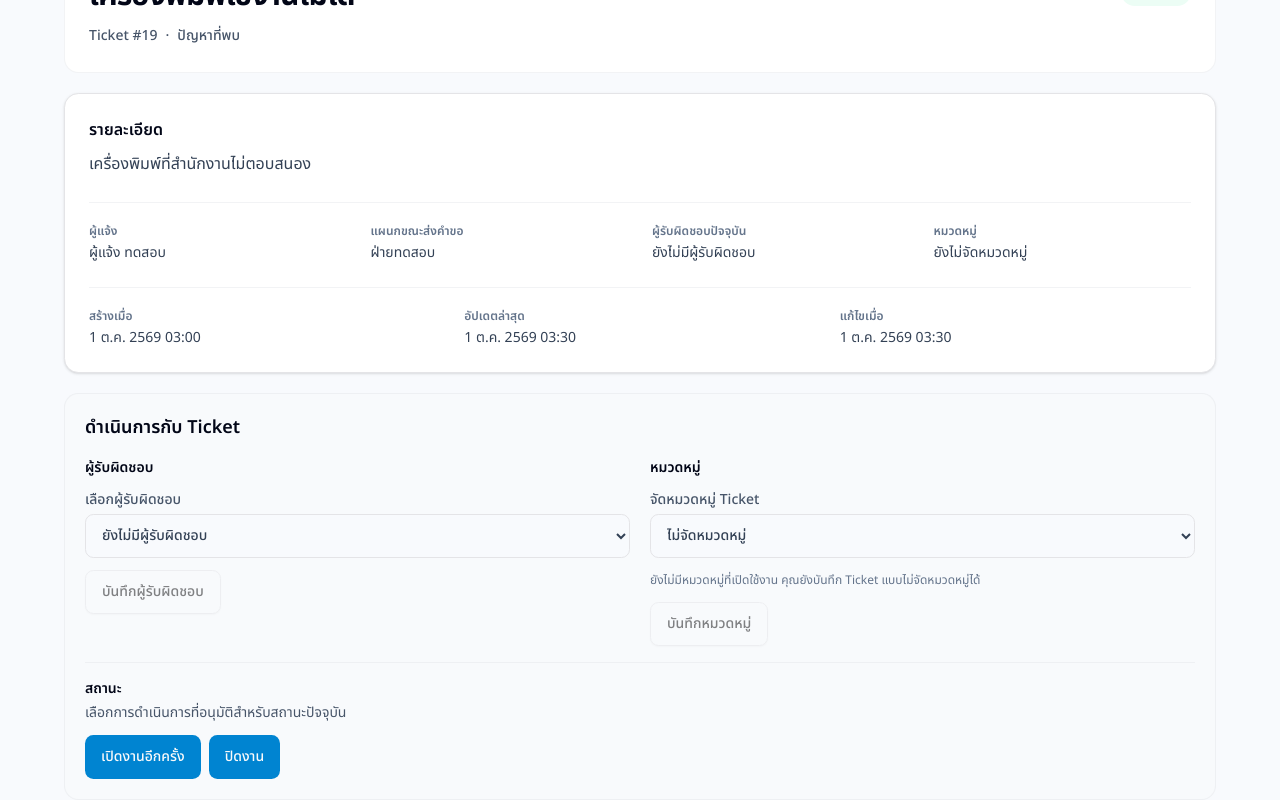
Scenario: ITTicketOperatorDetail terminal transition confirmation › requires close confirmation, cancels on Escape, and refreshes after success
The image size is (1280, 800).
(page scrolled)
Expected: the text "Ticket #19·ปัญหาที่พบ" is shown, [89, 24, 240, 46]
Click the button "ปิดงาน" at (244,756), box [209, 734, 280, 778]
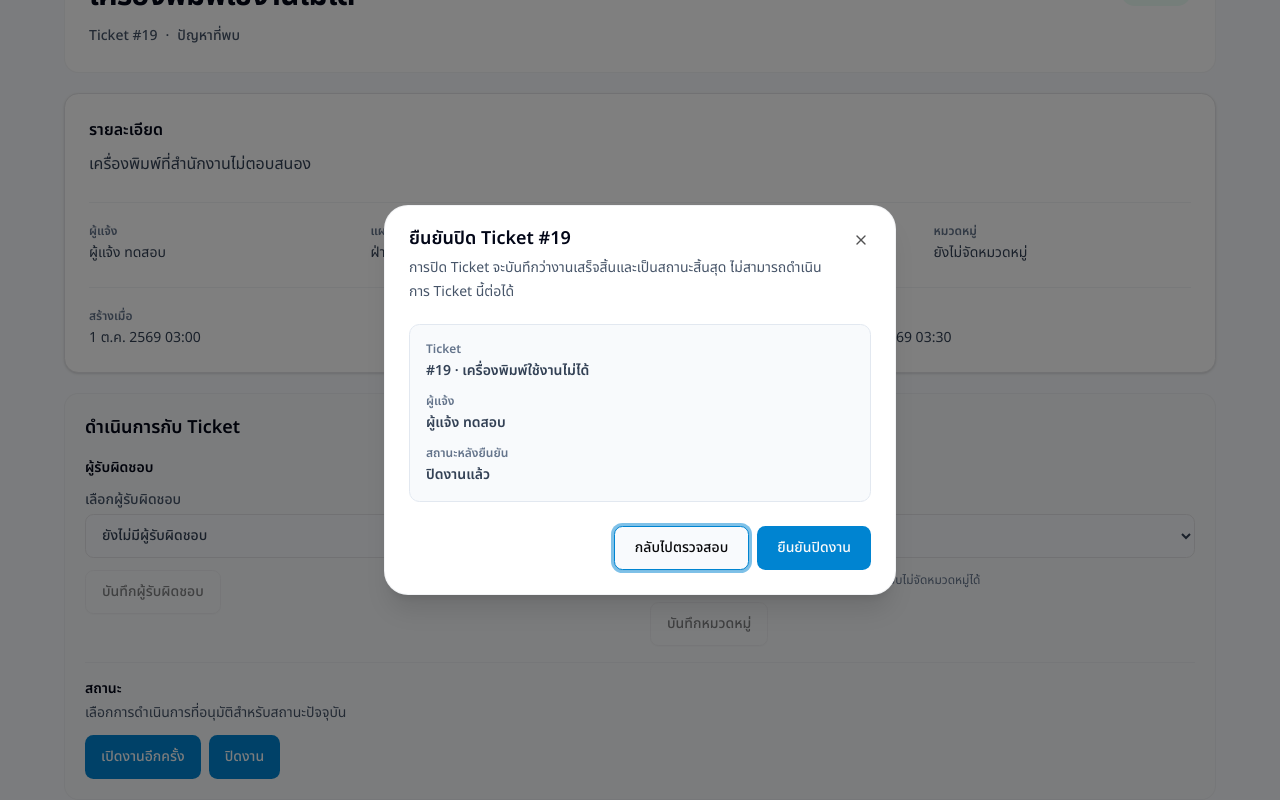
Now the heading "ยืนยันปิด Ticket #19" is shown, box [409, 225, 571, 252]
Now the text "ปิดงานแล้ว" is shown, box [426, 464, 490, 485]
Now the text "การปิด Ticket จะบันทึกว่างานเสร็จสิ้น" is shown, box [409, 257, 822, 302]
Press Escape
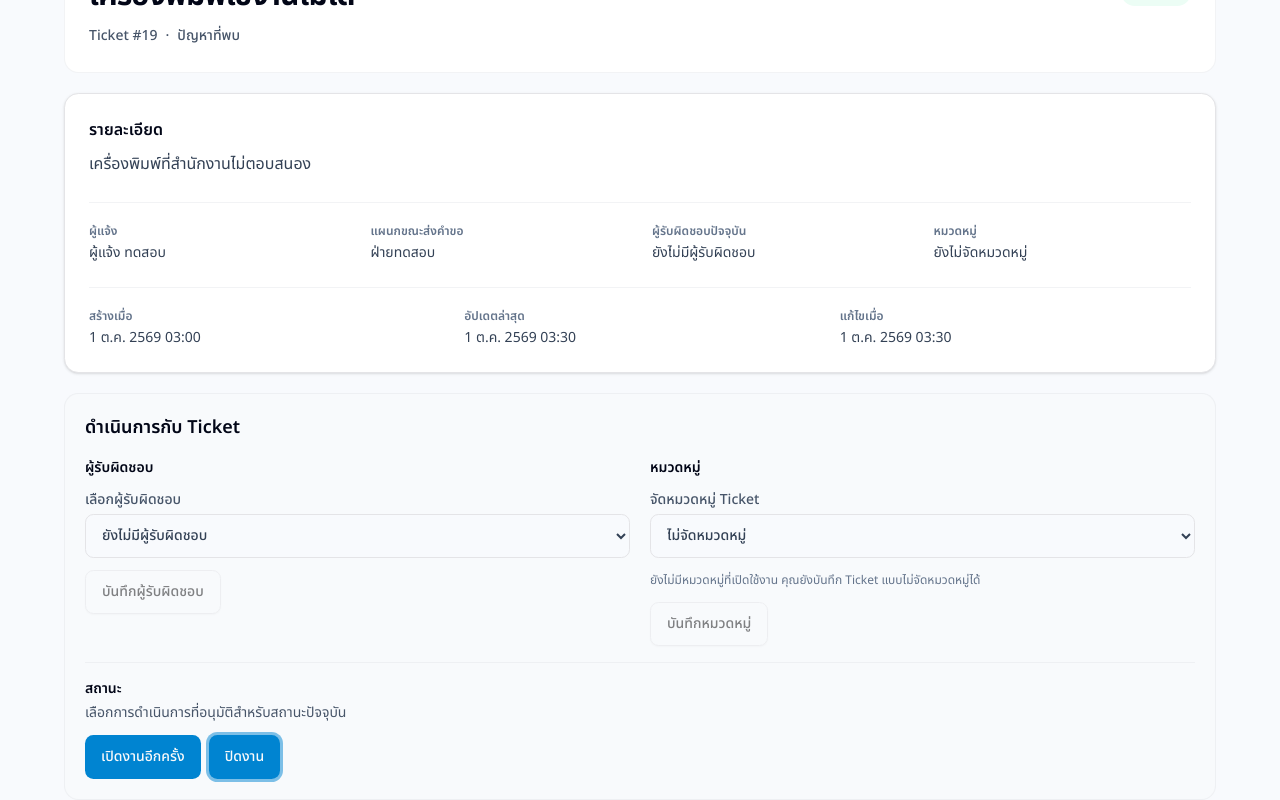
Now the dialog is gone
Click the button "ปิดงาน" at (244,756), box [209, 734, 280, 778]
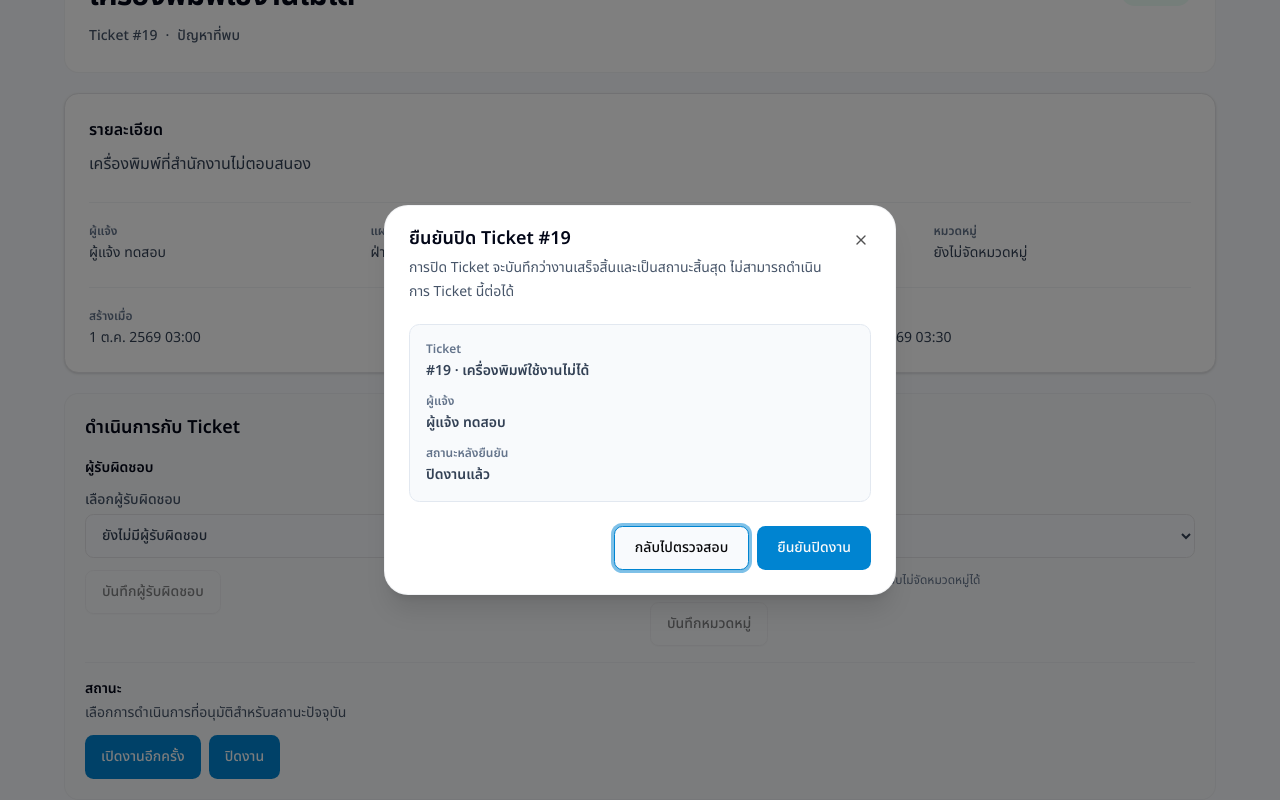
Click the button "ยืนยันปิดงาน" at (814,548), box [757, 526, 871, 570]
(page scrolled)
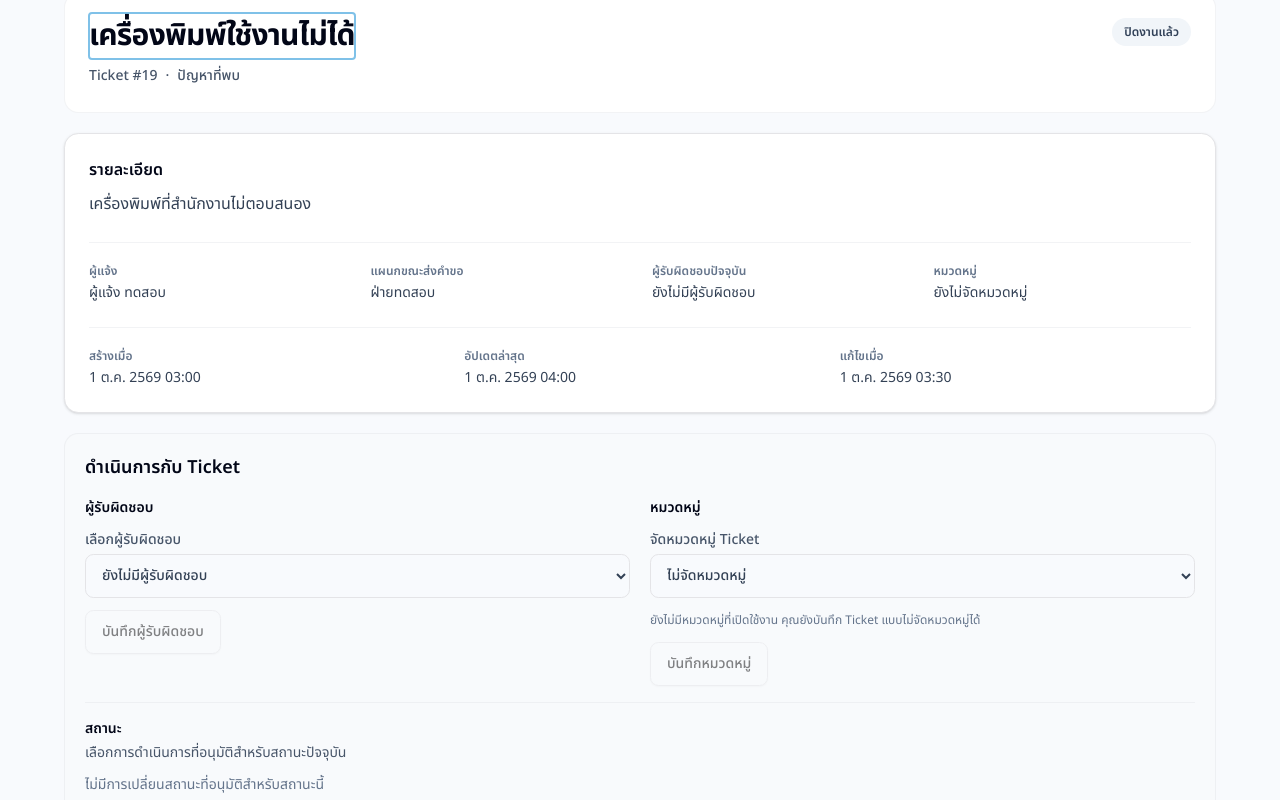
Now the dialog is gone
Now the text "ปิดงานแล้ว" is shown, box [1112, 18, 1191, 46]
